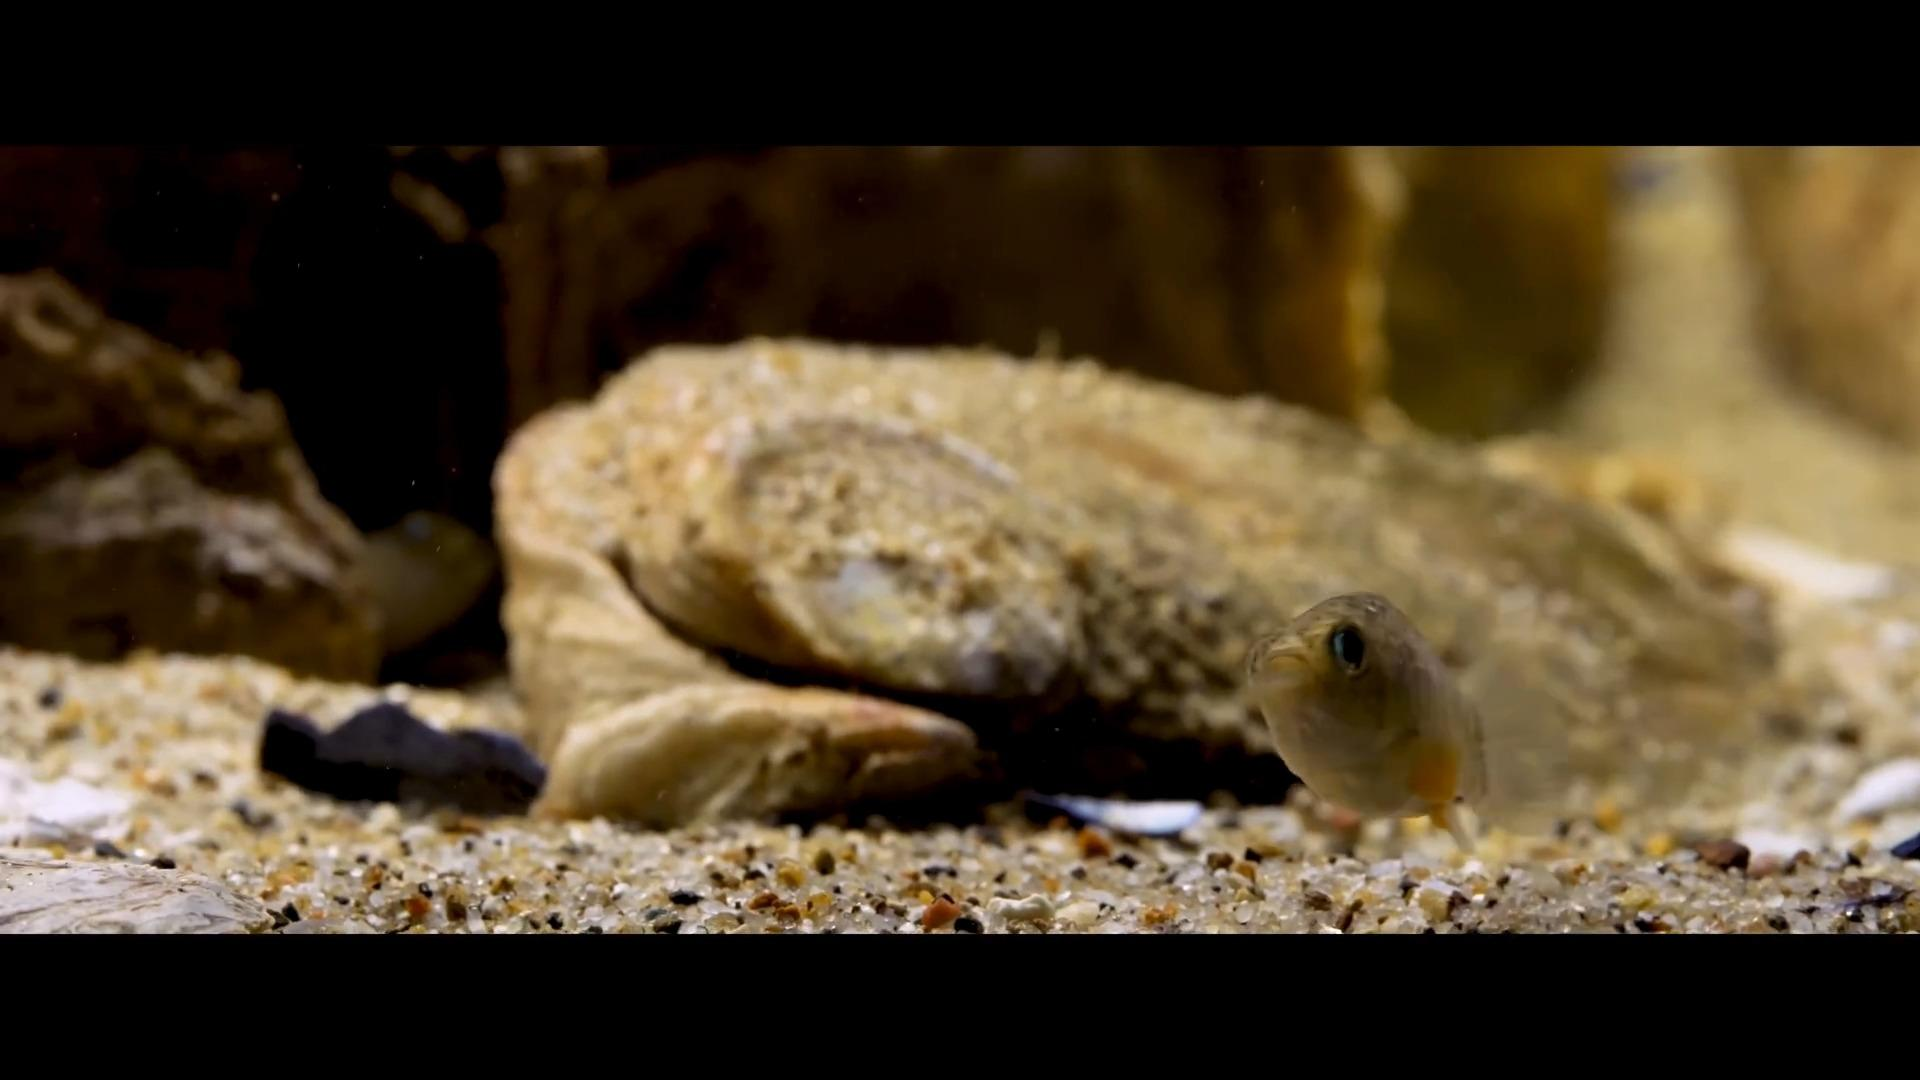Oyster: (495, 344, 1771, 811)
